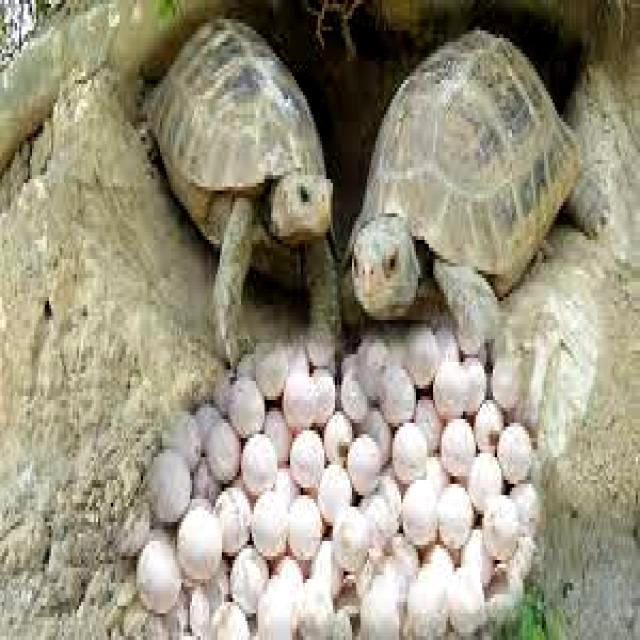Sea turtle: (354, 24, 611, 359), (139, 17, 346, 364)
